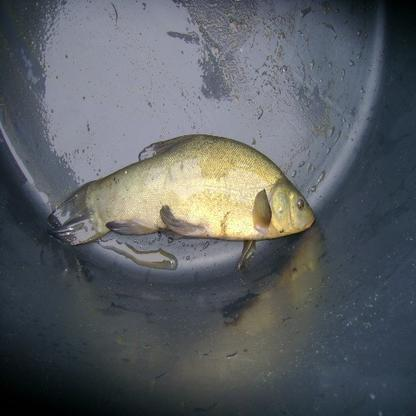fish: (42, 133, 324, 253)
